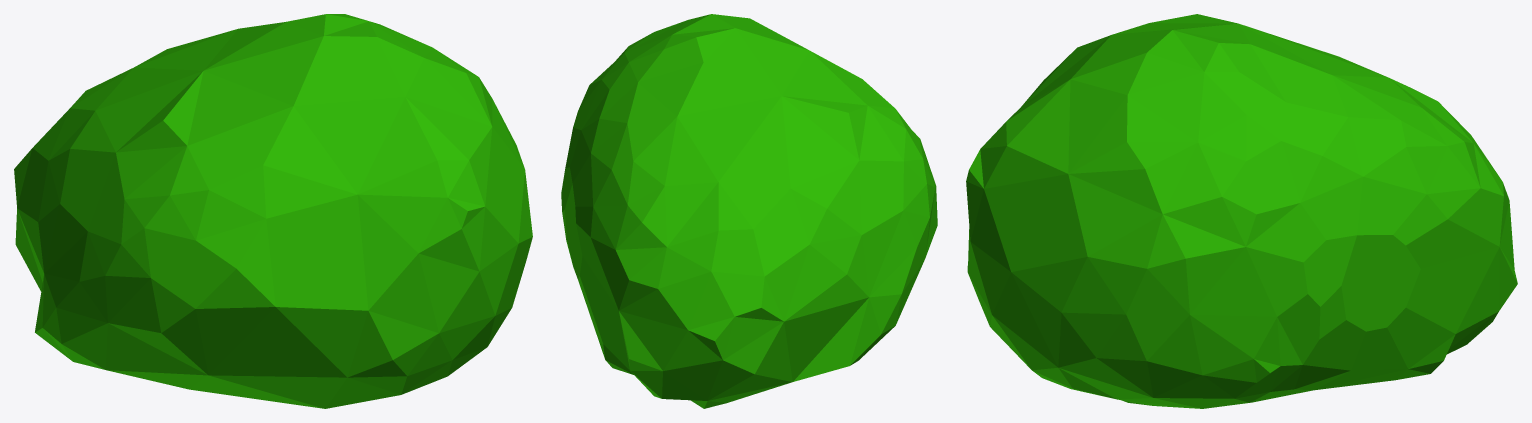
File: bush.fbx
The picture shows the model from 3 angles, left to right: view 1: azimuth 30°, elevation 25°; view 2: azimuth 150°, elevation 25°; view 3: azimuth 270°, elevation 25°; orthographic projection. The views are drawn at different scales.
Visible parts, largest first — view 1: Icosphere; view 2: Icosphere; view 3: Icosphere.
Boxes of the visible parts, x1,y1,x2,y2 form: Icosphere: [14, 14, 532, 408]; Icosphere: [561, 14, 937, 408]; Icosphere: [966, 14, 1517, 408].
Size of the model in its own units: 205 by 164 by 230.
